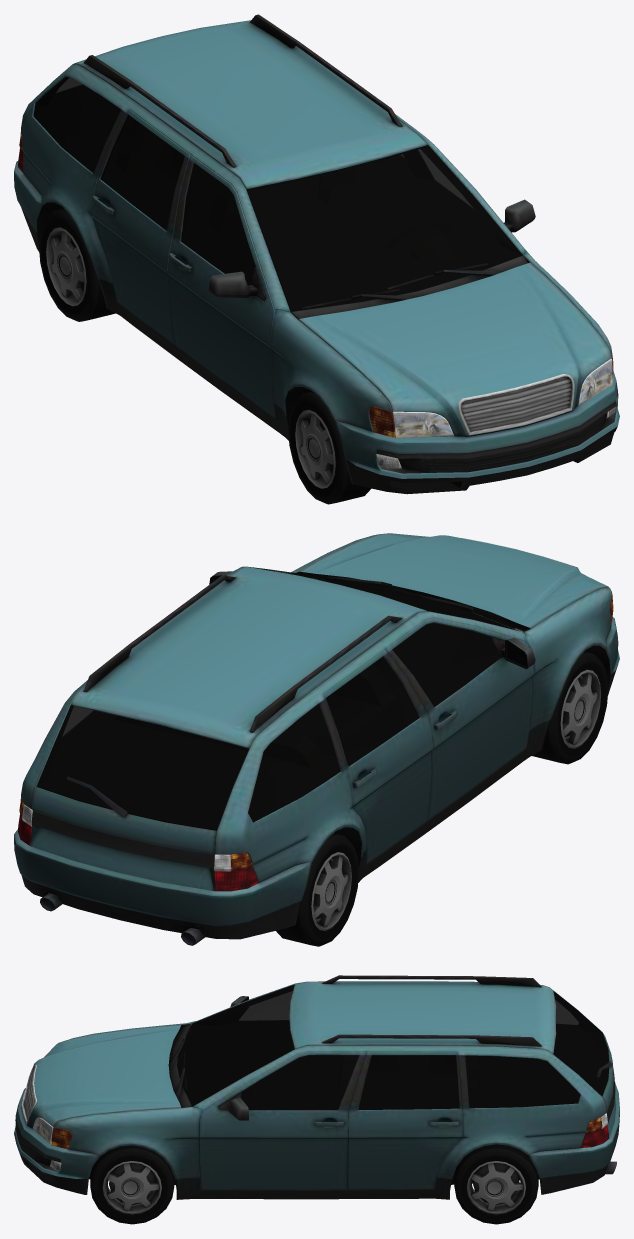
Rendered from wagon.glb.
3 renders of one model, top to bottom at view 1: azimuth 30°, elevation 25°; view 2: azimuth 150°, elevation 25°; view 3: azimuth 270°, elevation 25°, orthographic. The views are drawn at different scales.
Parts seen in each view (by area): view 1: Wagon Body, Wheel_A002, Wheel_A003; view 2: Wagon Body, Wheel_A003, Wheel_A002; view 3: Wagon Body, Wheel_A001, Wheel_A.
Part boxes in pixels (x1,y1,x2,y2): Wagon Body: (14,14,619,494); Wheel_A002: (288,391,371,504); Wheel_A003: (39,208,115,321); Wagon Body: (14,533,619,945); Wheel_A003: (276,833,358,946); Wheel_A002: (532,651,608,764); Wagon Body: (14,975,619,1199); Wheel_A001: (454,1144,538,1224); Wheel_A: (90,1145,174,1224).
Size of the model in its own units: 1.95 by 1.38 by 4.38.
Materials: 4 (3 with a texture image).
